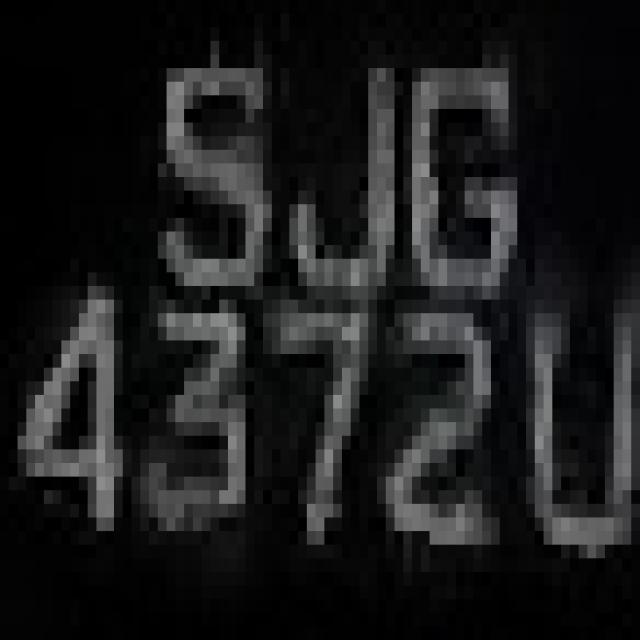2: (368, 259, 500, 558)
3: (105, 259, 246, 531)
4: (0, 272, 132, 572)
7: (237, 272, 386, 558)
G: (386, 41, 508, 340)
J: (263, 13, 412, 258)
L: (517, 299, 631, 572)
S: (149, 14, 281, 286)
